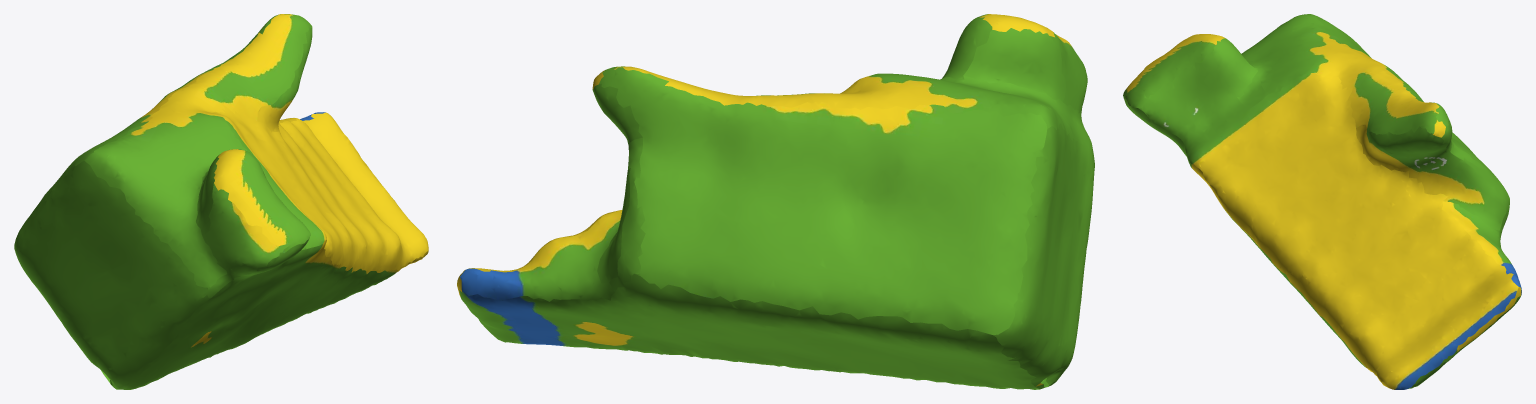
Rendered from springboard.glb.
The picture shows the model from 3 angles, left to right: view 1: azimuth 30°, elevation 25°; view 2: azimuth 150°, elevation 25°; view 3: azimuth 270°, elevation 25°; orthographic projection. The views are drawn at different scales.
Visible parts, largest first — view 1: geometry_0; view 2: geometry_0; view 3: geometry_0.
Part boxes in pixels (box(x1,y1,x2,y2)): geometry_0: box(14, 14, 428, 389); geometry_0: box(457, 14, 1094, 389); geometry_0: box(1123, 14, 1521, 389).
Bounding box in the file's own units: 0.921 × 0.5348 × 0.8432.
1 material, 1 textured.
